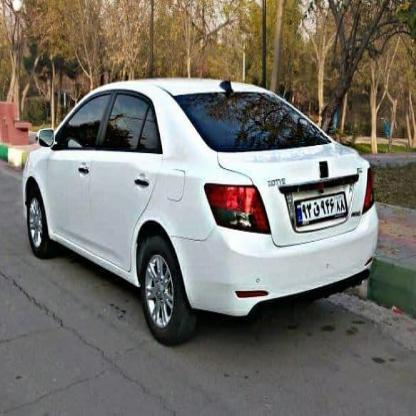Car: (23, 80, 380, 354)
